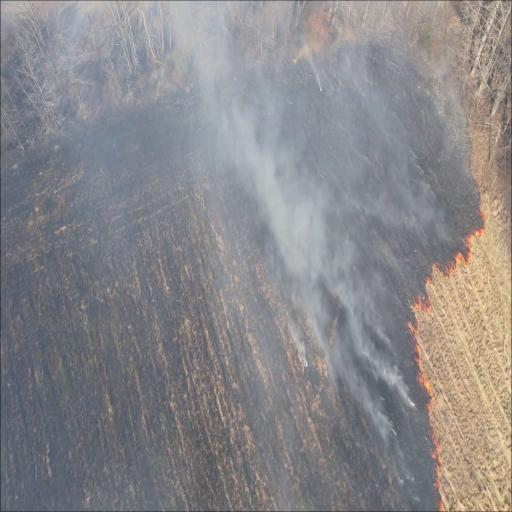smoke: (229, 106, 420, 452)
